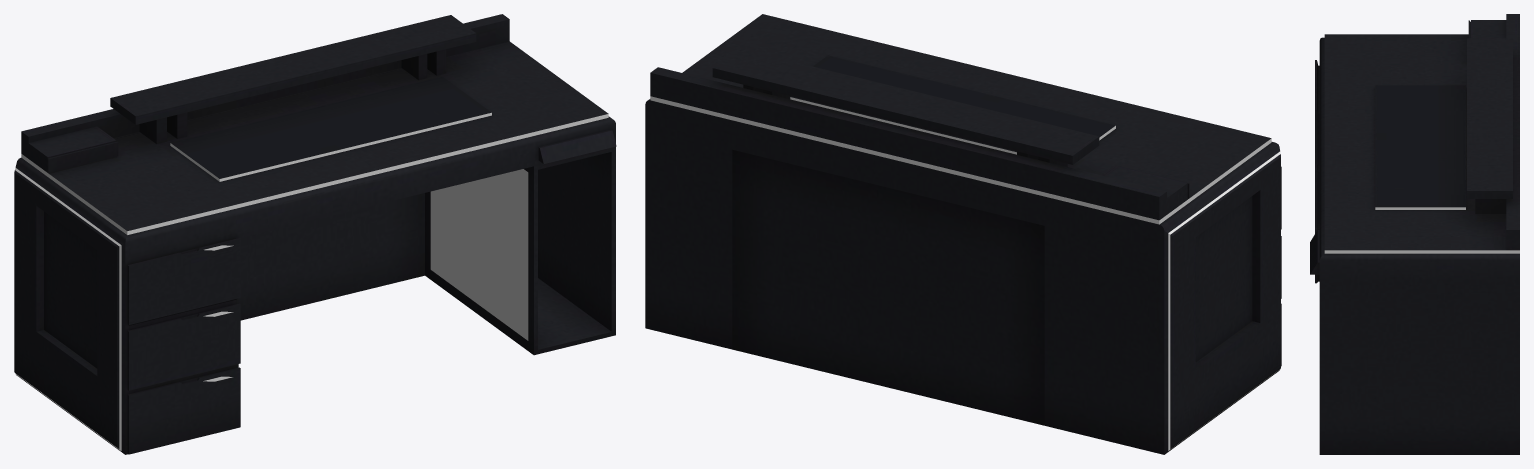
Rendered from desk-v1.glb.
The picture shows the model from 3 angles, left to right: view 1: azimuth 30°, elevation 25°; view 2: azimuth 150°, elevation 25°; view 3: azimuth 270°, elevation 25°; orthographic projection. The views are drawn at different scales.
Visible parts, largest first — view 1: desk_model, desk_glass, desk_led_magenta, desk_led_cyan; view 2: desk_model, desk_led_magenta, desk_led_cyan; view 3: desk_model, desk_led_magenta, desk_led_cyan.
Part boxes in pixels (bbox=[...]): desk_model: bbox=[14, 14, 616, 454]; desk_glass: bbox=[430, 169, 528, 340]; desk_led_magenta: bbox=[21, 114, 608, 450]; desk_led_cyan: bbox=[15, 112, 491, 450]; desk_model: bbox=[645, 14, 1281, 454]; desk_led_magenta: bbox=[650, 96, 1271, 450]; desk_led_cyan: bbox=[790, 97, 1280, 449]; desk_model: bbox=[1310, 14, 1519, 454]; desk_led_magenta: bbox=[1324, 250, 1519, 253]; desk_led_cyan: bbox=[1375, 207, 1465, 209].
Bounding box in the file's own units: 2.44 × 1.21 × 0.9716.
Materials: 5 (2 with a texture image).
